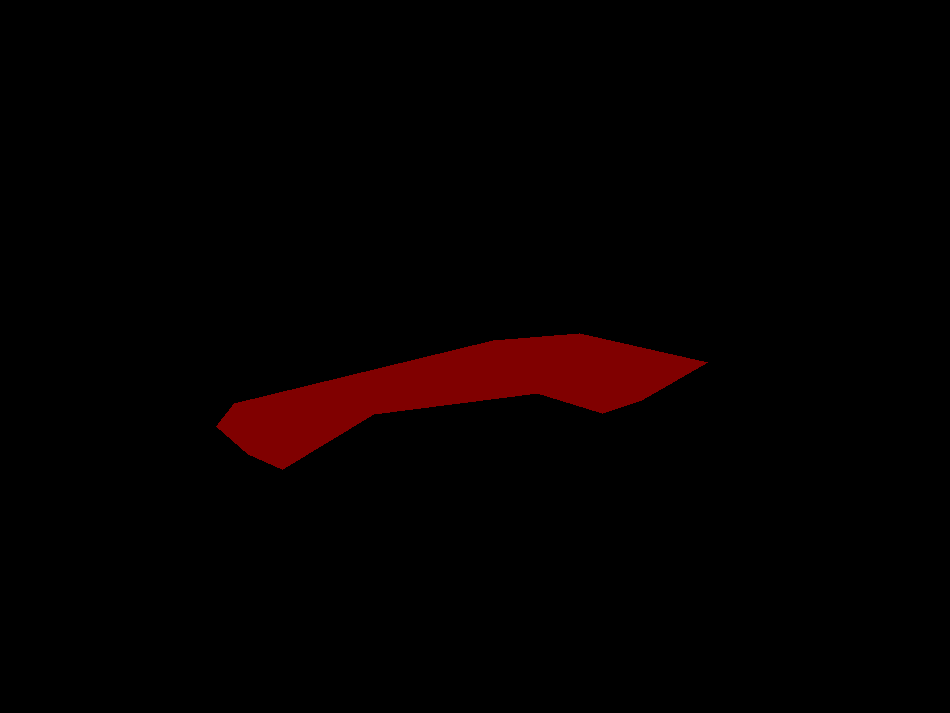fire: (216, 333, 707, 469)
